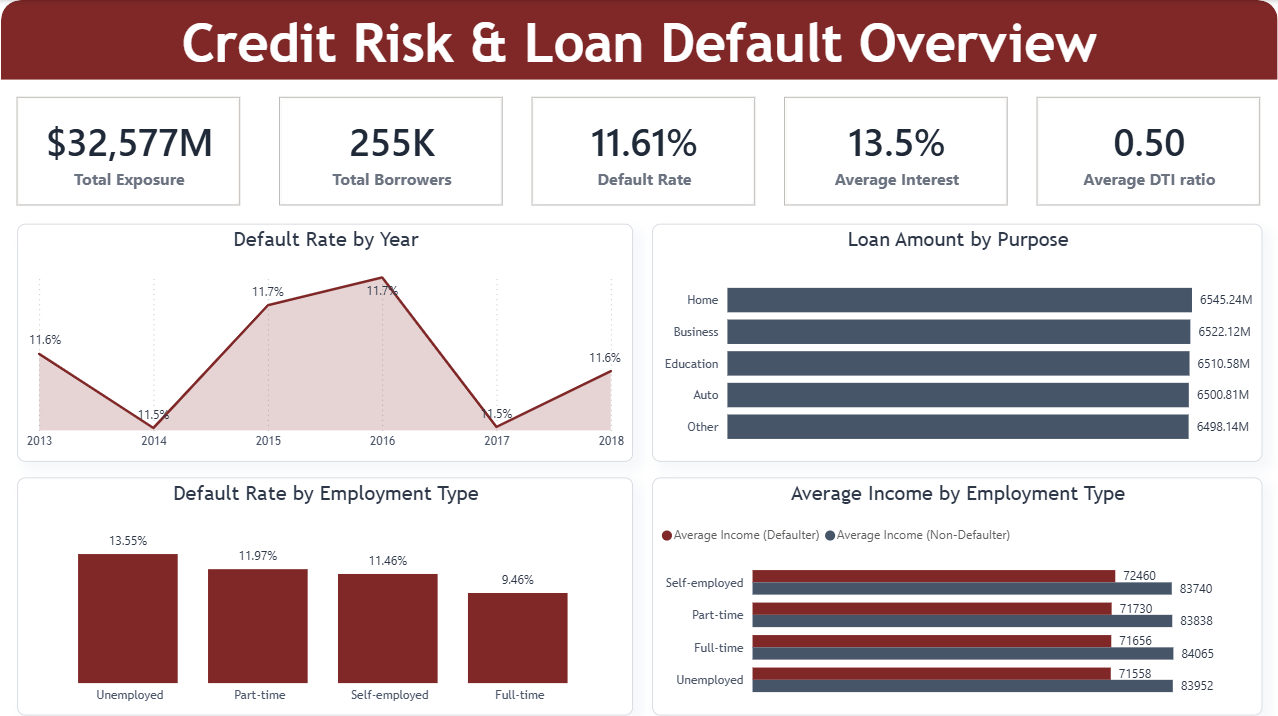

What the dashboard file says about the page in this screenshot:
{"tool":"powerbi","page":{"name":"Credit Risk & Loan Default Overview","canvas":[1280,720],"ordinal":0},"visuals":[{"type":"shape","box":[4.7,0,1270.7,79.6],"z":0},{"type":"cardVisual","fields":{"Data":["Measures Table 1.Total Exposure"]},"box":[4.1,79.6,256.6,142.7],"z":1000},{"type":"cardVisual","fields":{"Data":["Measures Table 1.Total Borrower"]},"box":[264.8,79.6,256.6,142.7],"z":2000},{"type":"cardVisual","fields":{"Data":["Measures Table 1.Default Rate"]},"box":[516,79.6,256.6,142.7],"z":3000},{"type":"cardVisual","fields":{"Data":["Measures Table 1.Average Interest"]},"box":[767.1,79.6,256.6,142.7],"z":4000},{"type":"cardVisual","fields":{"Data":["Measures Table 1.average DTI ratio"]},"box":[1018.2,79.6,256.6,142.7],"z":5000},{"type":"lineChart","title":"Default Rate by Year","fields":{"Y":["Measures Table 1.Default rate by year"],"Category":["Loan_default.Year"]},"box":[21.4,222.4,612.9,236.6],"z":6000},{"type":"clusteredBarChart","title":"Loan Amount by Purpose","fields":{"Category":["Loan_default.LoanPurpose"],"Y":["Measures Table.Loan amount by purpose"]},"box":[652.8,222.4,607.2,236.6],"z":7000},{"type":"columnChart","title":"Default Rate by Employment Type","fields":{"Category":["Loan_default.EmploymentType"],"Y":["Measures Table.Default rate by employment type"]},"box":[21.4,474.7,612.9,236.6],"z":8000},{"type":"clusteredBarChart","title":"Average Income by Employment  Type","fields":{"Category":["Loan_default.EmploymentType"],"Y":["Measures Table 1.Average Income (Defaulter)","Measures Table 1.Average Income (Non-Defaulter)"]},"box":[652.8,474.7,607.2,236.6],"z":9000}]}

Visuals, with their boxes in screenshot pixels (x1, y1, x2, y2), scaled from the page's 1280x720 canvas onto the 1278x716 screenshot:
shape: [left=5, top=0, right=1273, bottom=79]
cardVisual - Measures Table 1.Total Exposure: [left=4, top=79, right=260, bottom=221]
cardVisual - Measures Table 1.Total Borrower: [left=264, top=79, right=521, bottom=221]
cardVisual - Measures Table 1.Default Rate: [left=515, top=79, right=771, bottom=221]
cardVisual - Measures Table 1.Average Interest: [left=766, top=79, right=1022, bottom=221]
cardVisual - Measures Table 1.average DTI ratio: [left=1017, top=79, right=1273, bottom=221]
"Default Rate by Year" lineChart: [left=21, top=221, right=633, bottom=456]
"Loan Amount by Purpose" clusteredBarChart: [left=652, top=221, right=1258, bottom=456]
"Default Rate by Employment Type" columnChart: [left=21, top=472, right=633, bottom=707]
"Average Income by Employment  Type" clusteredBarChart: [left=652, top=472, right=1258, bottom=707]
